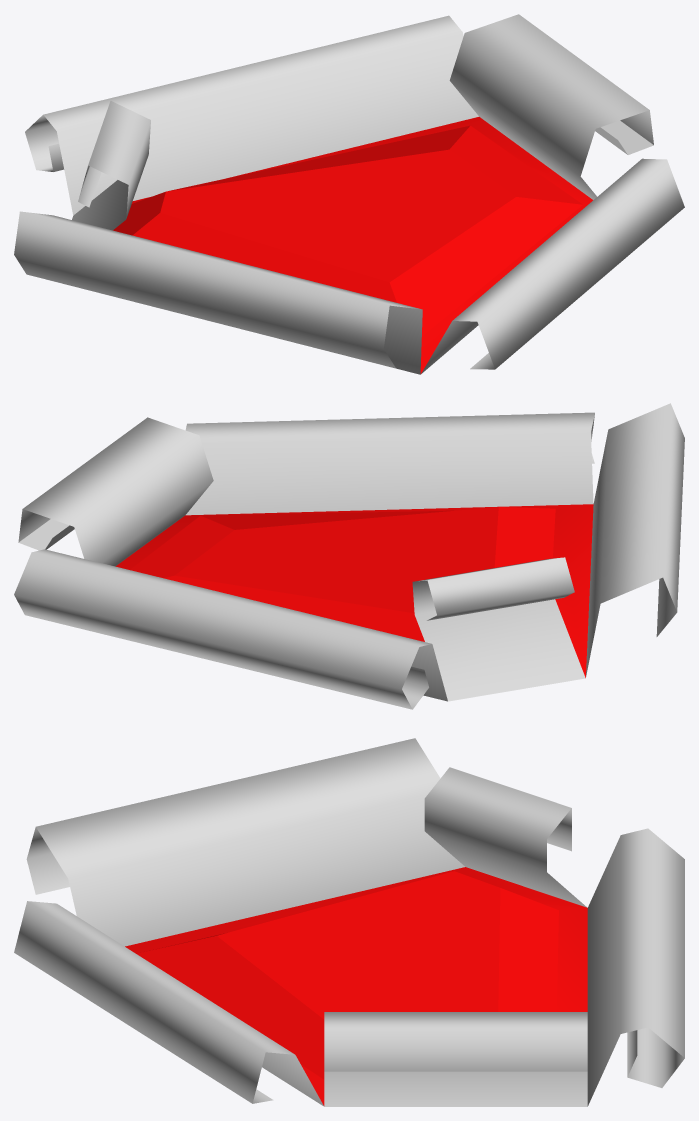
Rendered from terrain_split_v1.FBX.
3 renders of one model, top to bottom at view 1: azimuth 30°, elevation 25°; view 2: azimuth 150°, elevation 25°; view 3: azimuth 270°, elevation 25°, orthographic. The views are drawn at different scales.
Parts seen in each view (by area): view 1: terrain_split, terrain_split_color; view 2: terrain_split, terrain_split_color; view 3: terrain_split, terrain_split_color.
Part boxes in pixels (bbox=[...]): terrain_split: bbox=[14, 14, 684, 374]; terrain_split_color: bbox=[113, 117, 592, 373]; terrain_split: bbox=[14, 403, 684, 709]; terrain_split_color: bbox=[116, 504, 593, 677]; terrain_split: bbox=[14, 738, 684, 1106]; terrain_split_color: bbox=[125, 867, 587, 1105].
Bounding box in the file's own units: 10074 × 1828 × 9722.
